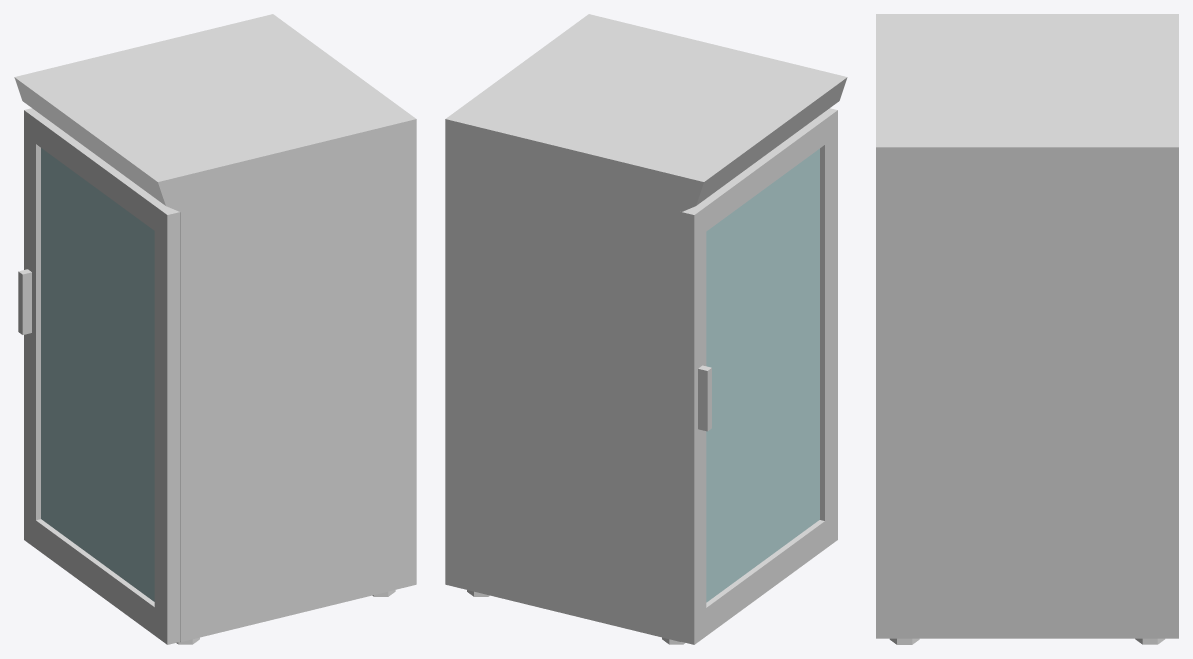
The model's file is Icebox1 1.fbx.
The picture shows the model from 3 angles, left to right: view 1: azimuth 30°, elevation 25°; view 2: azimuth 150°, elevation 25°; view 3: azimuth 270°, elevation 25°; orthographic projection. The views are drawn at different scales.
Parts seen in each view (by area): view 1: Icebox 1, Icebox 1 doore; view 2: Icebox 1, Icebox 1 doore; view 3: Icebox 1.
Boxes of the visible parts, x1=… form: Icebox 1: x1=14, y1=14, x2=416, y2=644; Icebox 1 doore: x1=18, y1=108, x2=180, y2=644; Icebox 1: x1=445, y1=14, x2=847, y2=644; Icebox 1 doore: x1=680, y1=108, x2=837, y2=644; Icebox 1: x1=876, y1=14, x2=1178, y2=644.
Bounding box in the file's own units: 0.8328 × 0.8003 × 1.47.
